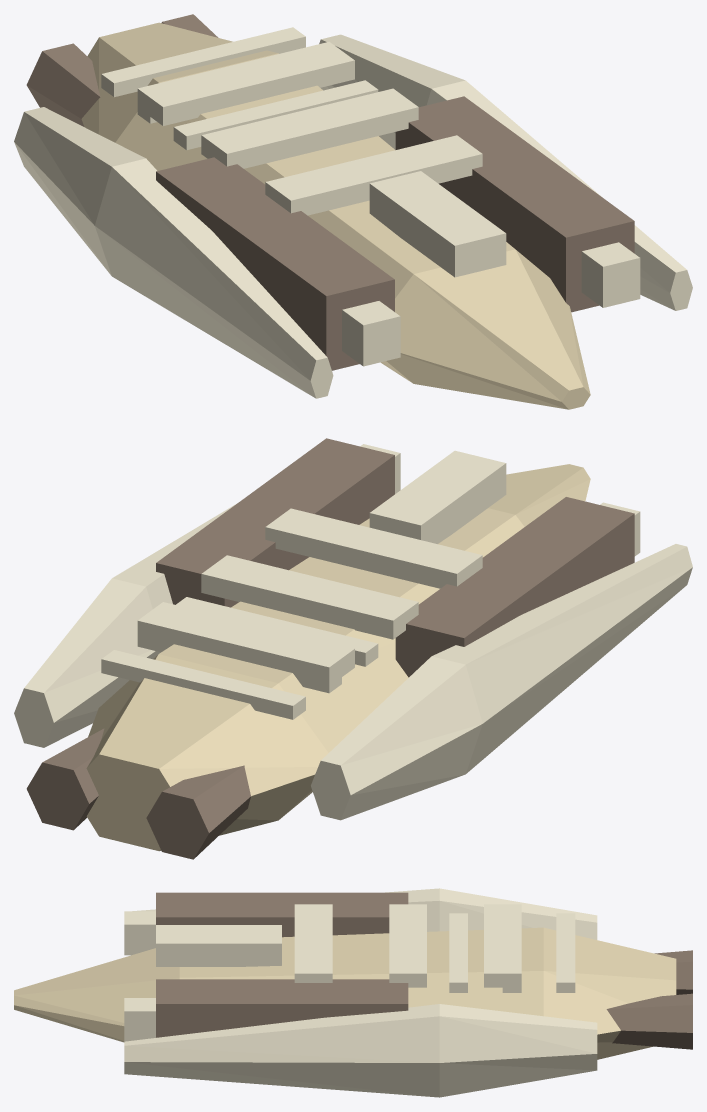
The picture shows the model from 3 angles, top to bottom: view 1: azimuth 30°, elevation 25°; view 2: azimuth 150°, elevation 25°; view 3: azimuth 270°, elevation 25°; orthographic projection. The views are drawn at different scales.
Bounding box in the file's own units: 2.23 × 0.8639 × 4.56.
